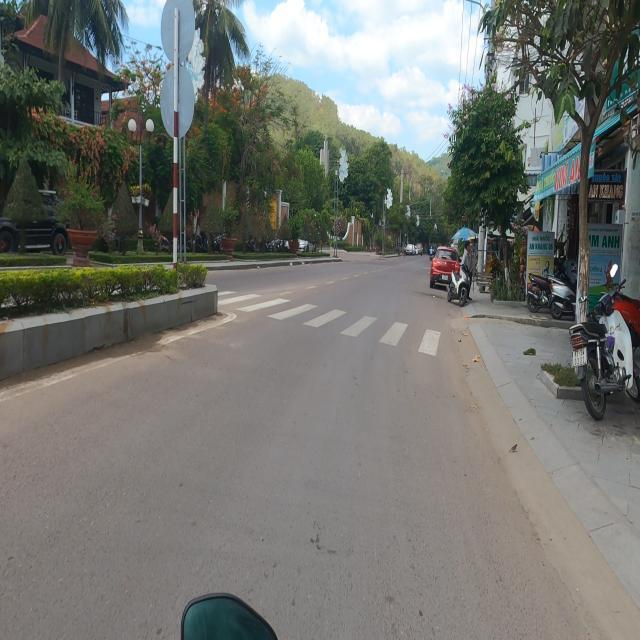walk-crossing: (215, 282, 441, 356)
